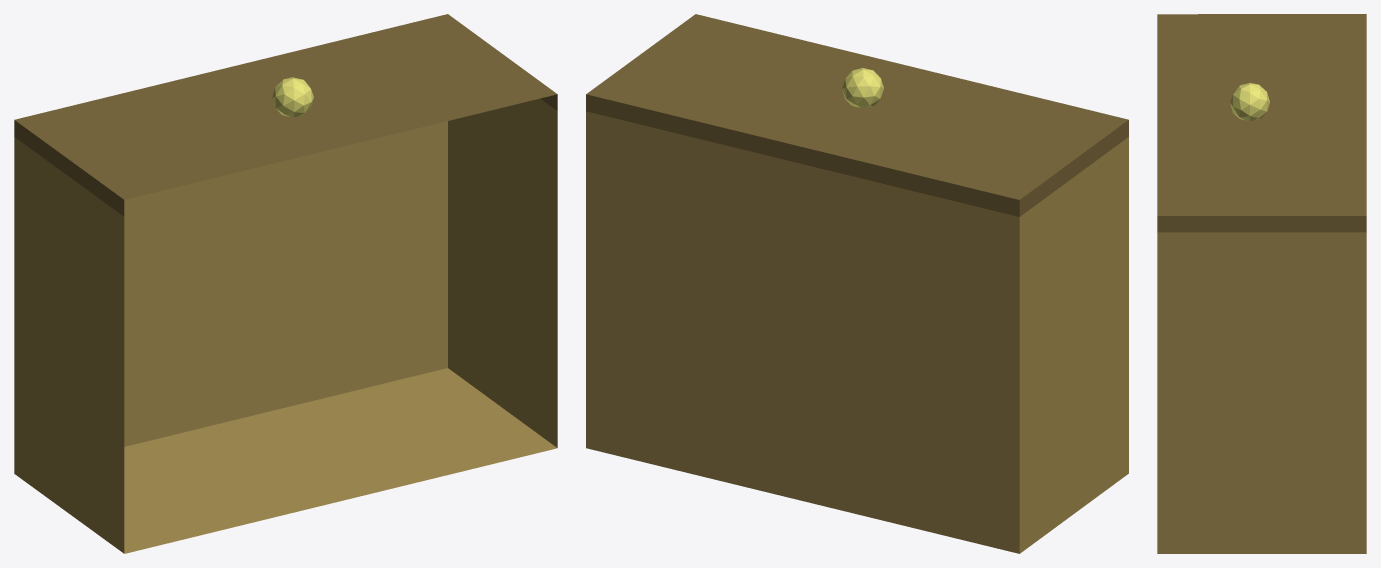
The model's file is CajonBottomMN.obj.
3 renders of one model, left to right at view 1: azimuth 30°, elevation 25°; view 2: azimuth 150°, elevation 25°; view 3: azimuth 270°, elevation 25°, orthographic. The views are drawn at different scales.
Parts seen in each view (by area): view 1: Esfera_geodésica_Material.004, Esfera_geodésica_Material.003, Esfera_geodésica_Material.005; view 2: Esfera_geodésica_Material.004, Esfera_geodésica_Material.003, Esfera_geodésica_Material.005; view 3: Esfera_geodésica_Material.004, Esfera_geodésica_Material.003, Esfera_geodésica_Material.005.
Boxes of the visible parts, box(x1,y1,x2,y2) form: Esfera_geodésica_Material.004: box(14, 98, 557, 553); Esfera_geodésica_Material.003: box(14, 14, 557, 216); Esfera_geodésica_Material.005: box(272, 77, 313, 117); Esfera_geodésica_Material.004: box(586, 111, 1128, 553); Esfera_geodésica_Material.003: box(586, 14, 1128, 216); Esfera_geodésica_Material.005: box(842, 68, 883, 107); Esfera_geodésica_Material.004: box(1157, 232, 1366, 553); Esfera_geodésica_Material.003: box(1157, 14, 1366, 232); Esfera_geodésica_Material.005: box(1230, 83, 1269, 120).
Bounding box in the file's own units: 2.38 × 2.03 × 1.04.
